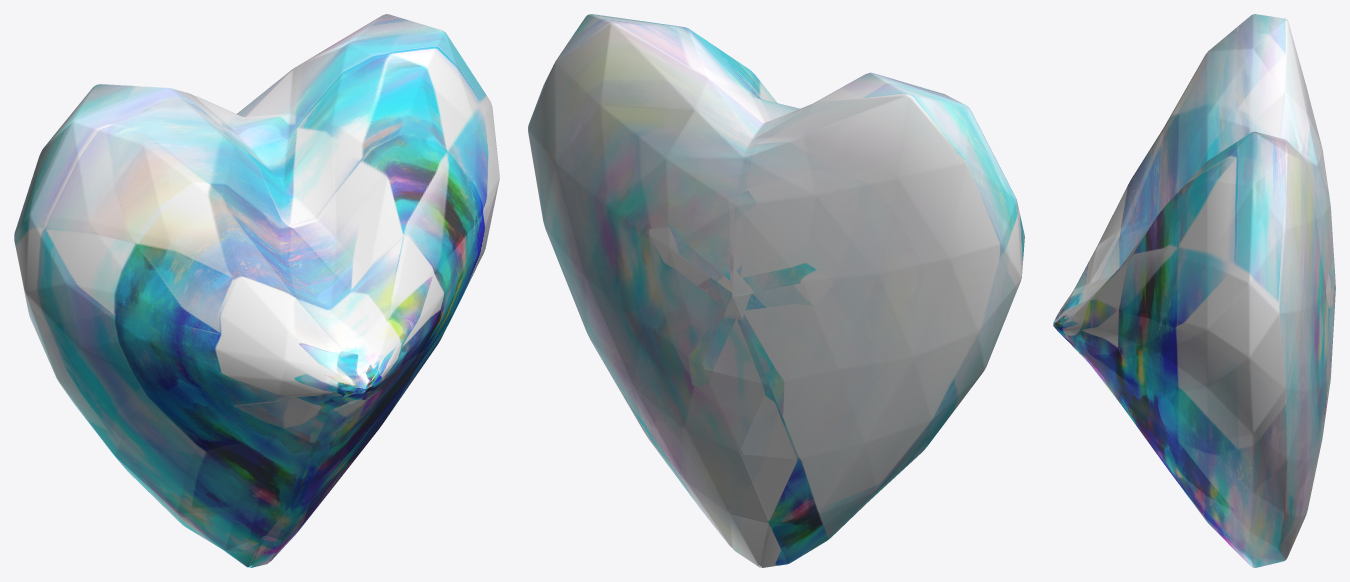
Rendered from Jewelry Type 1.glb.
The picture shows the model from 3 angles, left to right: view 1: azimuth 30°, elevation 25°; view 2: azimuth 150°, elevation 25°; view 3: azimuth 270°, elevation 25°; orthographic projection. The views are drawn at different scales.
Parts seen in each view (by area): view 1: Jewelry009_M_Jewelry001_0; view 2: Jewelry009_M_Jewelry001_0; view 3: Jewelry009_M_Jewelry001_0.
Boxes of the visible parts, box(x1,y1,x2,y2) form: Jewelry009_M_Jewelry001_0: box(14, 14, 499, 567); Jewelry009_M_Jewelry001_0: box(528, 14, 1024, 567); Jewelry009_M_Jewelry001_0: box(1053, 14, 1335, 567).
Size of the model in its own units: 1.17 by 1.2 by 0.6425.
1 material, 1 textured.
